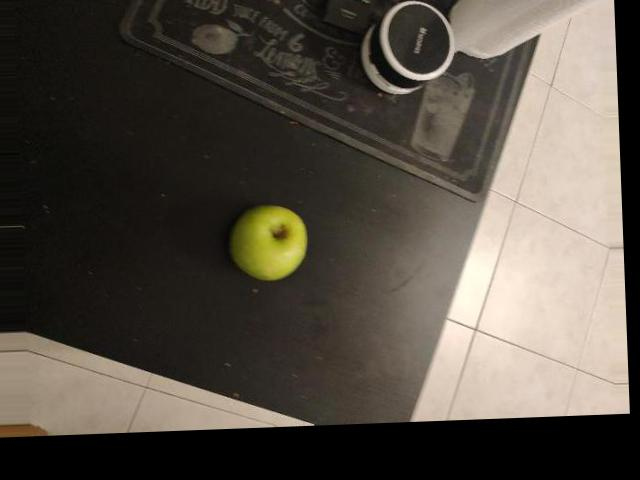apple: (202, 190, 328, 290)
